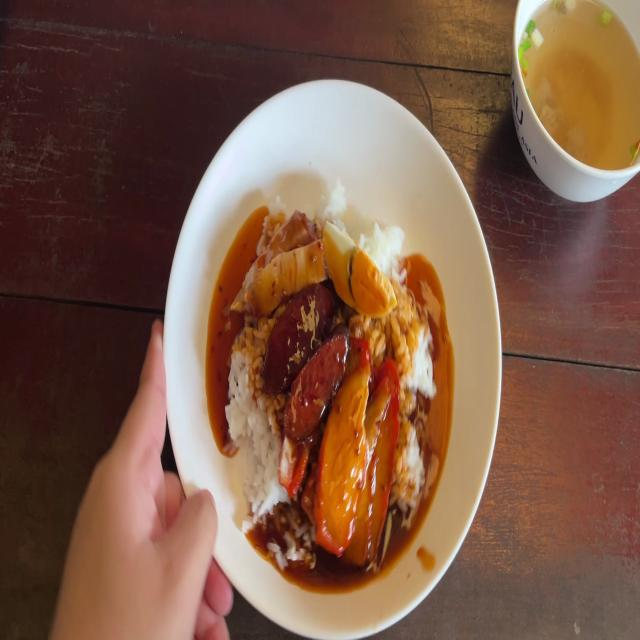red_pork_and_crispy_pork: (322, 213, 398, 319)
stir_fried_basil: (269, 283, 342, 415)
